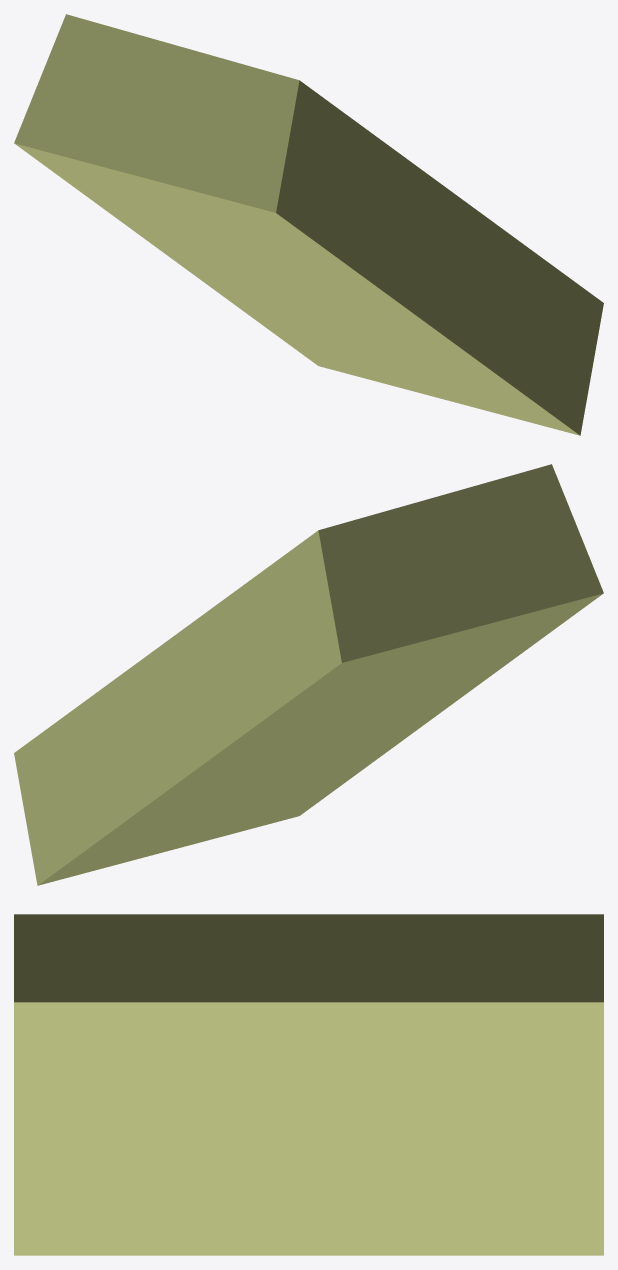
The picture shows the model from 3 angles, top to bottom: view 1: azimuth 30°, elevation 25°; view 2: azimuth 150°, elevation 25°; view 3: azimuth 270°, elevation 25°; orthographic projection. The views are drawn at different scales.
Parts seen in each view (by area): view 1: 0_1_2_0_3_3_2_1_0_1_3_1; view 2: 0_1_2_0_3_3_2_1_0_1_3_1; view 3: 0_1_2_0_3_3_2_1_0_1_3_1.
Boxes of the visible parts, x1,y1,x2,y2 form: 0_1_2_0_3_3_2_1_0_1_3_1: [14, 14, 603, 435]; 0_1_2_0_3_3_2_1_0_1_3_1: [14, 464, 603, 885]; 0_1_2_0_3_3_2_1_0_1_3_1: [14, 914, 603, 1255].
Bounding box in the file's own units: 4.87 × 4.08 × 9.
